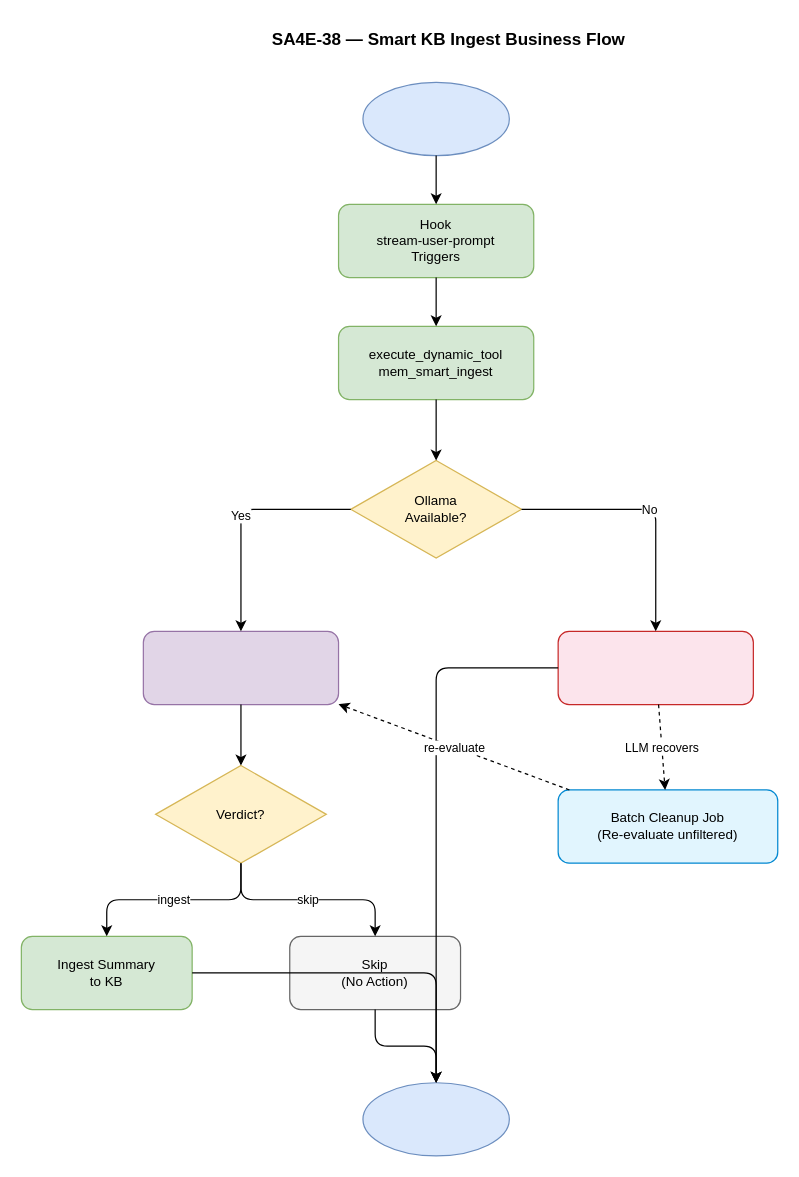
The diagram is 799 pixels wide and 1177 high, and some of its shapes have lost their labels. Here are the shapes that lost their labels. From the top down, the centre of each, then its label:
the point at 435,118: User Submits Message
the point at 240,667: Local LLM Evaluate Message
the point at 655,667: Fallback: Ingest Raw Tag "unfiltered"
the point at 435,1119: Return Result to Hook
